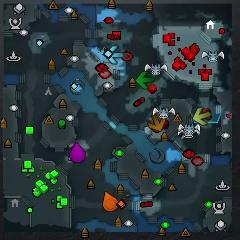p3: (68, 140, 87, 163)
p5: (101, 191, 120, 212)
x2: (192, 107, 212, 125)
x3: (103, 46, 124, 64)
x4: (135, 71, 156, 91)
x5: (146, 113, 167, 131)
